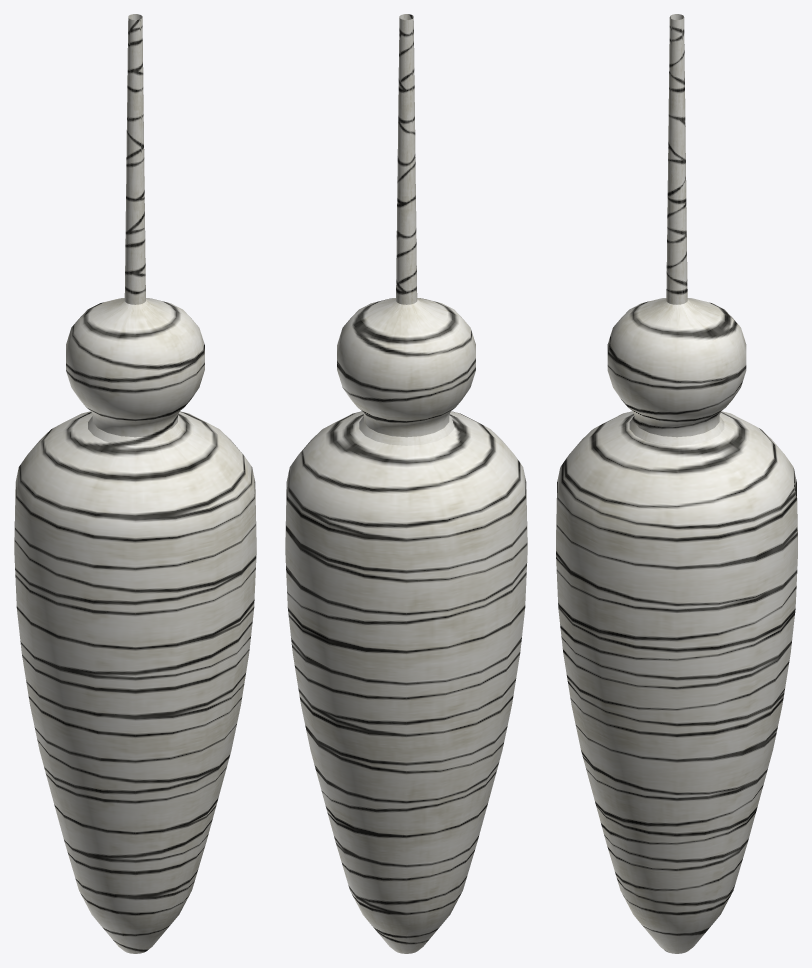
The model's file is CorporMummy_02.FBX.
3 views of the same model, side by side, from view 1: azimuth 30°, elevation 25°; view 2: azimuth 150°, elevation 25°; view 3: azimuth 270°, elevation 25° (orthographic).
Visible parts, largest first — view 1: Cylinder001; view 2: Cylinder001; view 3: Cylinder001.
Part boxes in pixels (x1,y1,x2,y2): Cylinder001: [14, 14, 256, 953]; Cylinder001: [285, 14, 527, 953]; Cylinder001: [556, 14, 797, 953].
Bounding box in the file's own units: 74.4 × 311 × 73.27.
